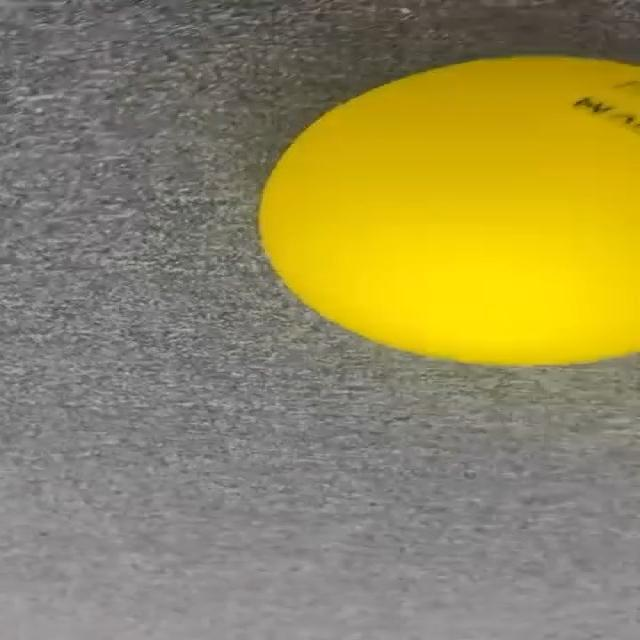Fuels: (254, 52, 640, 363)
